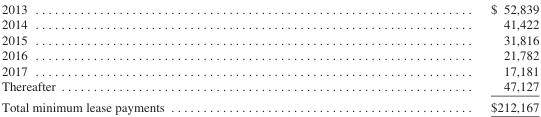table: (0, 1, 538, 113)
table column: (0, 1, 326, 113), (326, 1, 538, 113)
table row: (0, 78, 538, 96), (0, 96, 538, 113), (0, 31, 538, 47), (0, 62, 538, 78), (0, 1, 538, 16), (0, 16, 538, 31), (0, 47, 538, 62)
